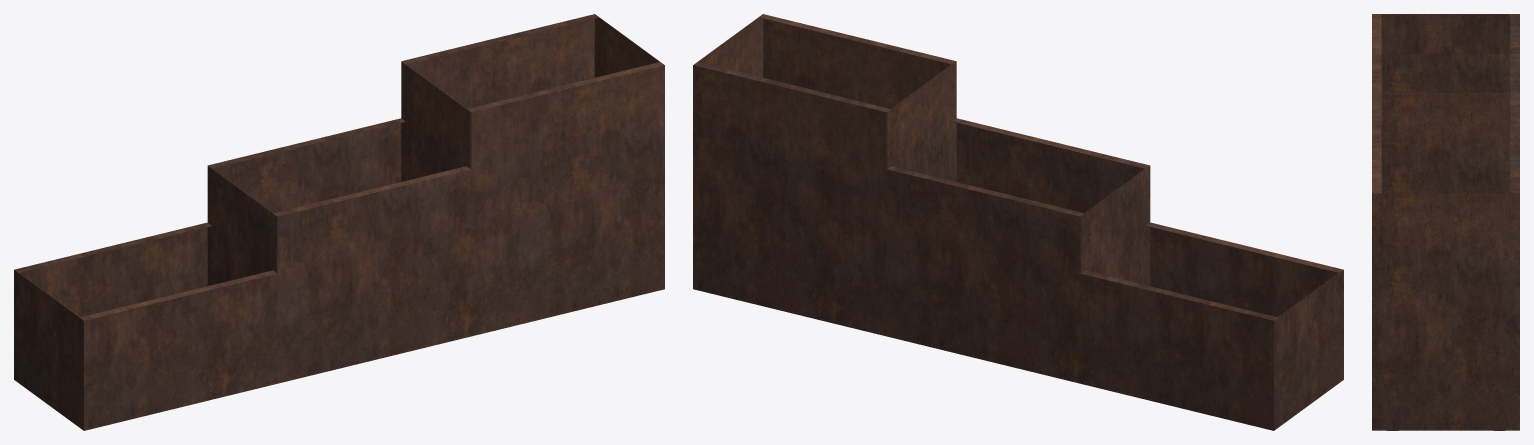
File: macetero_escalonado.glb
3 views of the same model, side by side, from view 1: azimuth 30°, elevation 25°; view 2: azimuth 150°, elevation 25°; view 3: azimuth 270°, elevation 25° (orthographic). The views are drawn at different scales.
Parts seen in each view (by area): view 1: MaceteroEscalonado; view 2: MaceteroEscalonado; view 3: MaceteroEscalonado.
Boxes of the visible parts, left/top/right/bottom form: MaceteroEscalonado: left=14, top=14, right=664, bottom=430; MaceteroEscalonado: left=693, top=14, right=1343, bottom=430; MaceteroEscalonado: left=1372, top=14, right=1519, bottom=430.
Bounding box in the file's own units: 2.4 × 0.9 × 0.5.
Materials: 1 (1 with a texture image).
